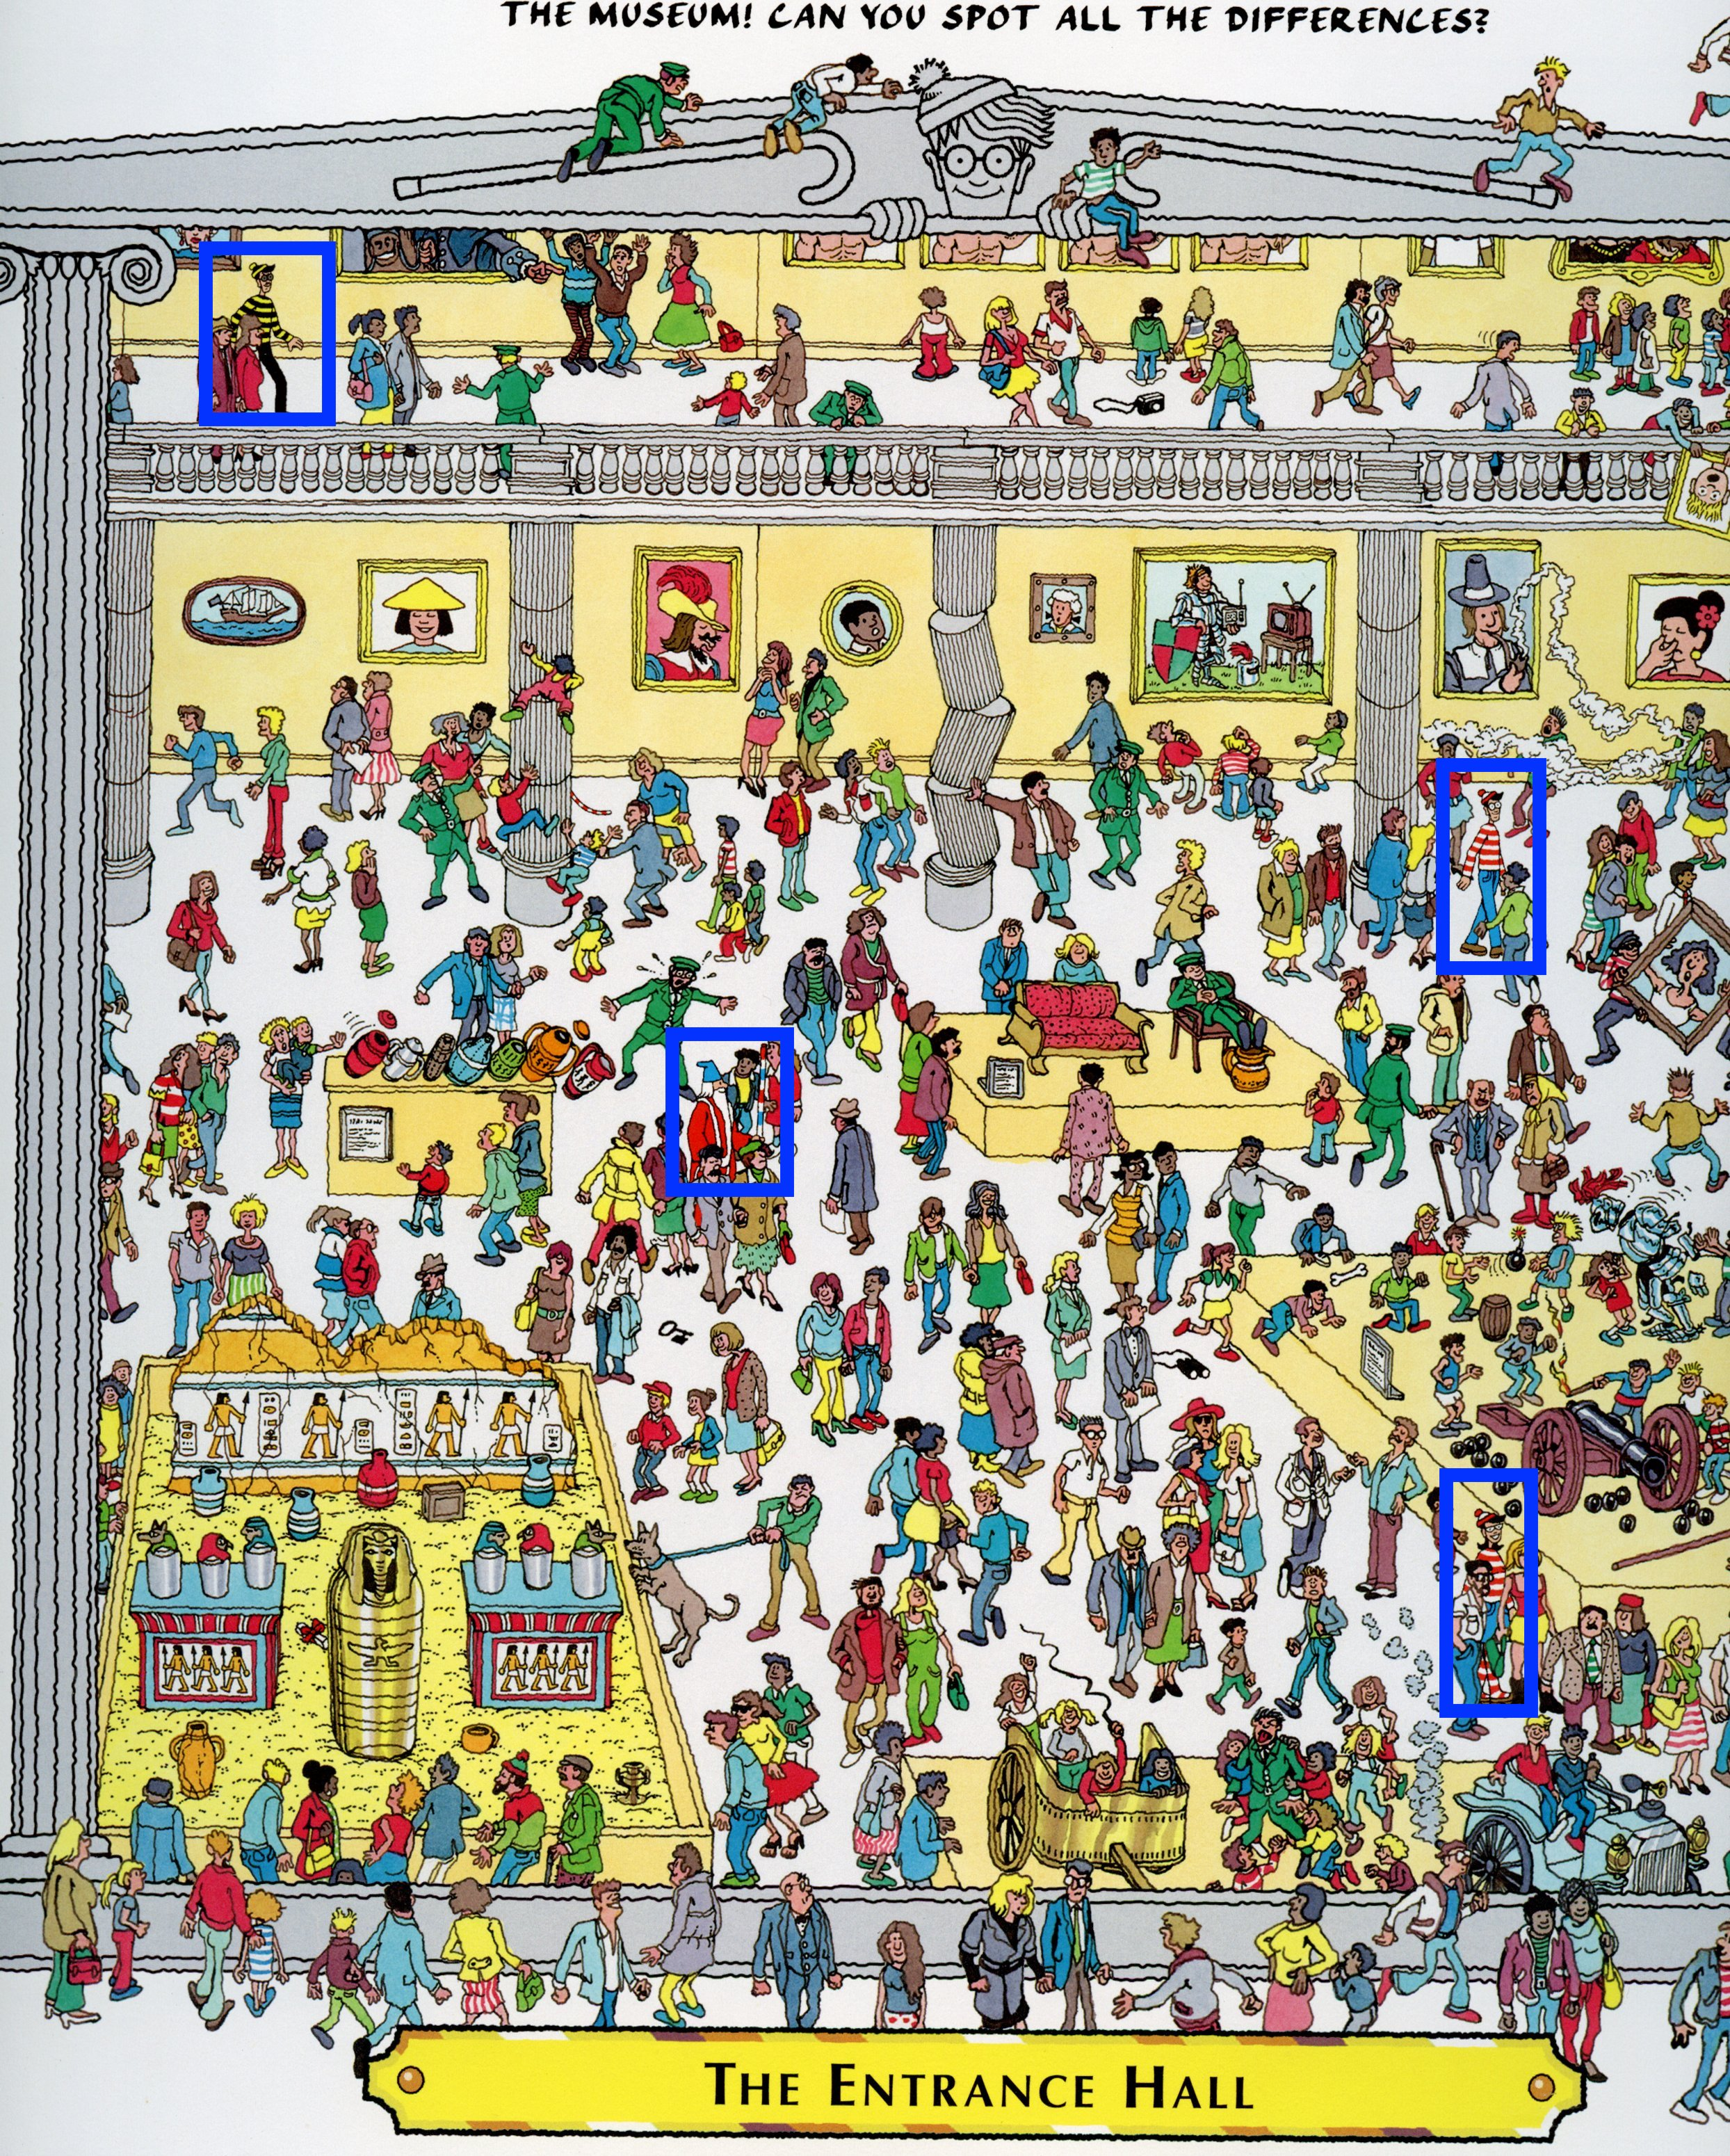odlaw: (201, 240, 325, 422)
waldo: (1433, 758, 1583, 992)
